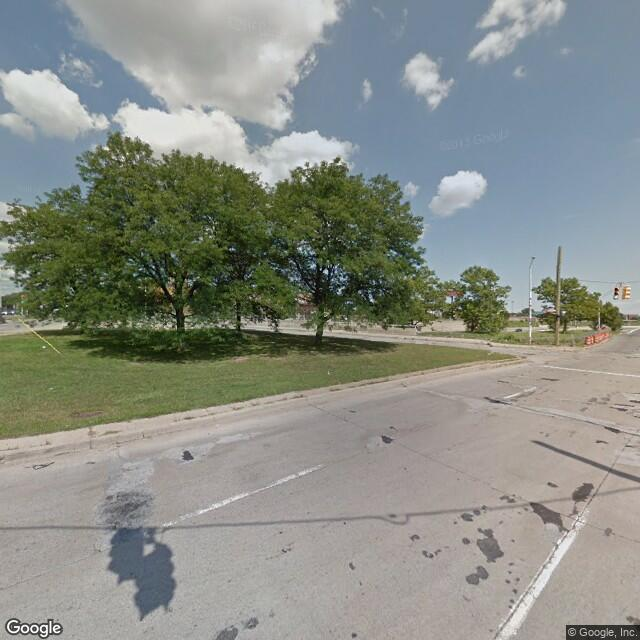litter: (40, 344, 47, 349), (325, 370, 332, 375), (49, 385, 55, 389)
